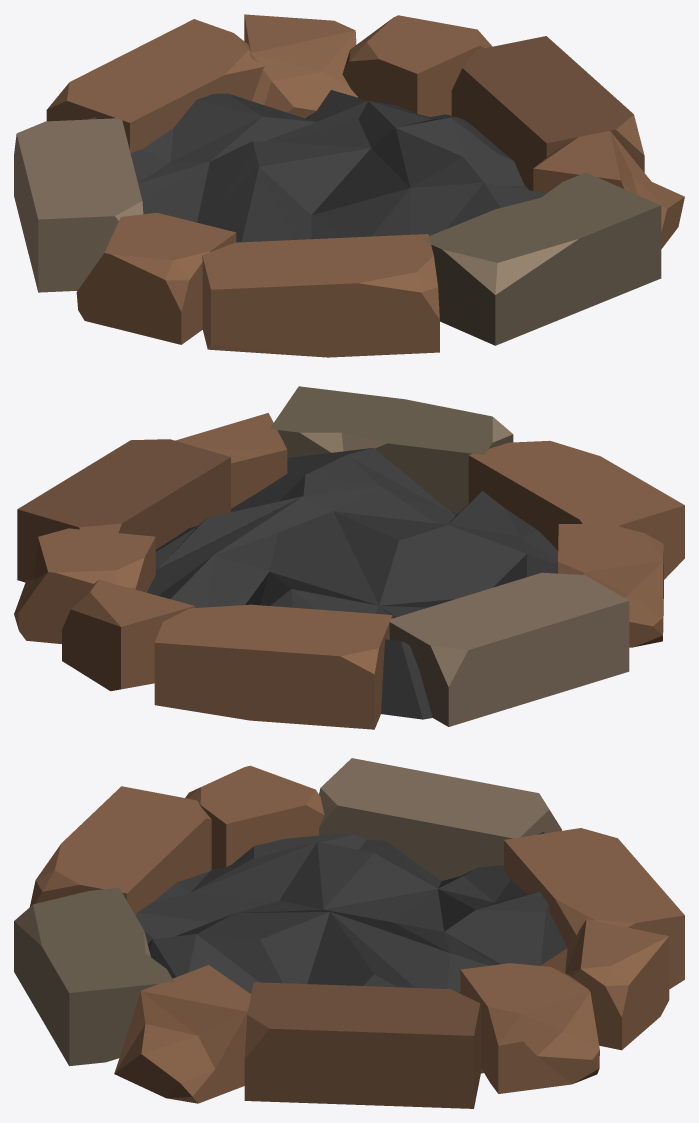
Rendered from castle_firepit.gltf.
3 views of the same model, one above another, from view 1: azimuth 30°, elevation 25°; view 2: azimuth 150°, elevation 25°; view 3: azimuth 270°, elevation 25° (orthographic). The views are drawn at different scales.
Visible parts, largest first — view 1: castle_firepit; view 2: castle_firepit; view 3: castle_firepit.
Part boxes in pixels (x1,y1,x2,y2): castle_firepit: (14,14,684,357); castle_firepit: (14,386,684,729); castle_firepit: (14,758,684,1108).
Size of the model in its own units: 1.01 by 0.1507 by 1.03.
Materials: 1 (1 with a texture image).
